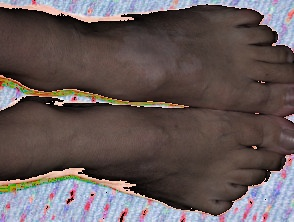vitiligo: (99, 0, 219, 112)
